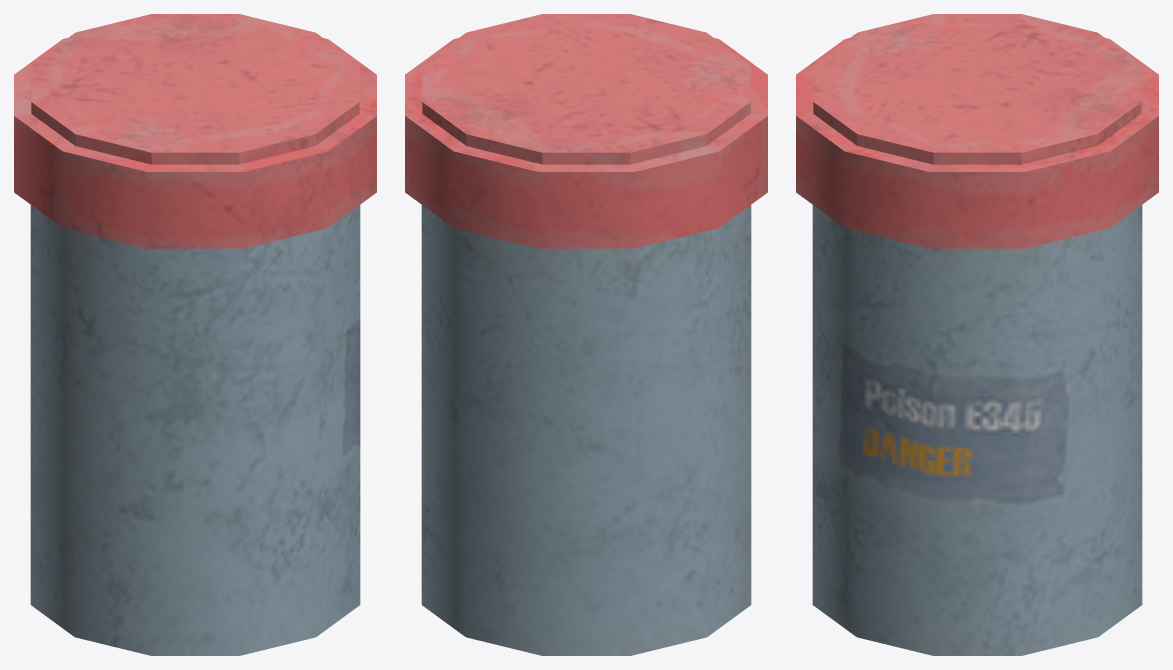
The model's file is Pills_fixed.fbx.
3 views of the same model, side by side, from view 1: azimuth 30°, elevation 25°; view 2: azimuth 150°, elevation 25°; view 3: azimuth 270°, elevation 25° (orthographic).
Parts seen in each view (by area): view 1: Pills; view 2: Pills; view 3: Pills.
Boxes of the visible parts, box(x1,y1,x2,y2) form: Pills: box(14, 14, 376, 655); Pills: box(405, 14, 767, 655); Pills: box(796, 14, 1158, 655).
Size of the model in its own units: 26.33 by 40.27 by 26.33.
Materials: 1 (1 with a texture image).
